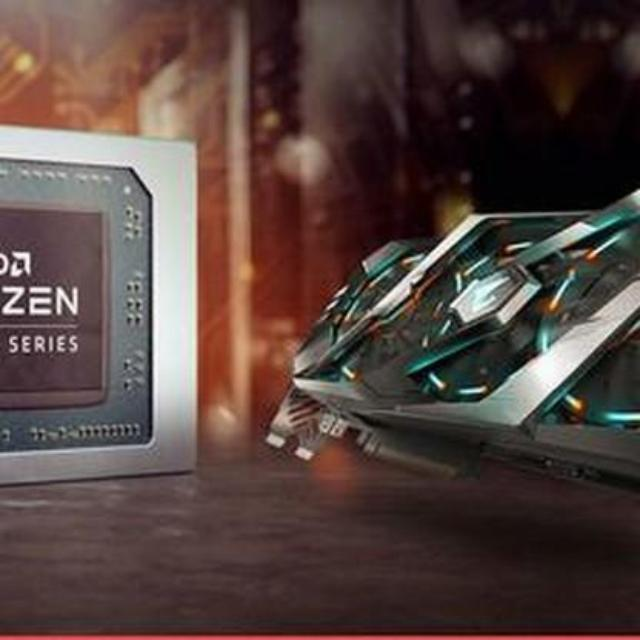GPU: (246, 197, 640, 485)
